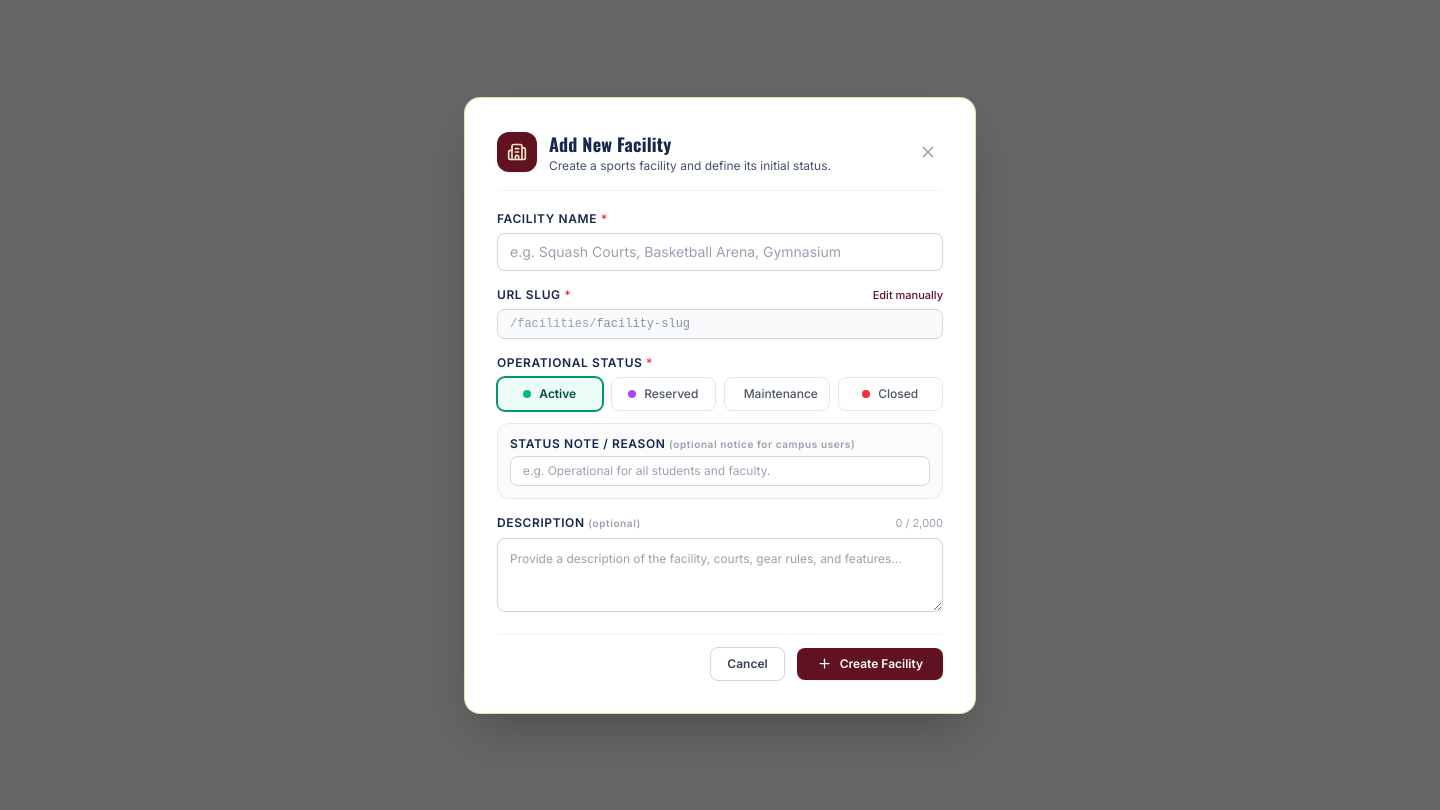
Test: CreateFacilityModal Component › displays conflict error banner when slug already exists
The image size is (1440, 810).
Type "Gymnasium" into the field with test id "create-facility-name-input" at (720, 252), box [497,232,943,270]
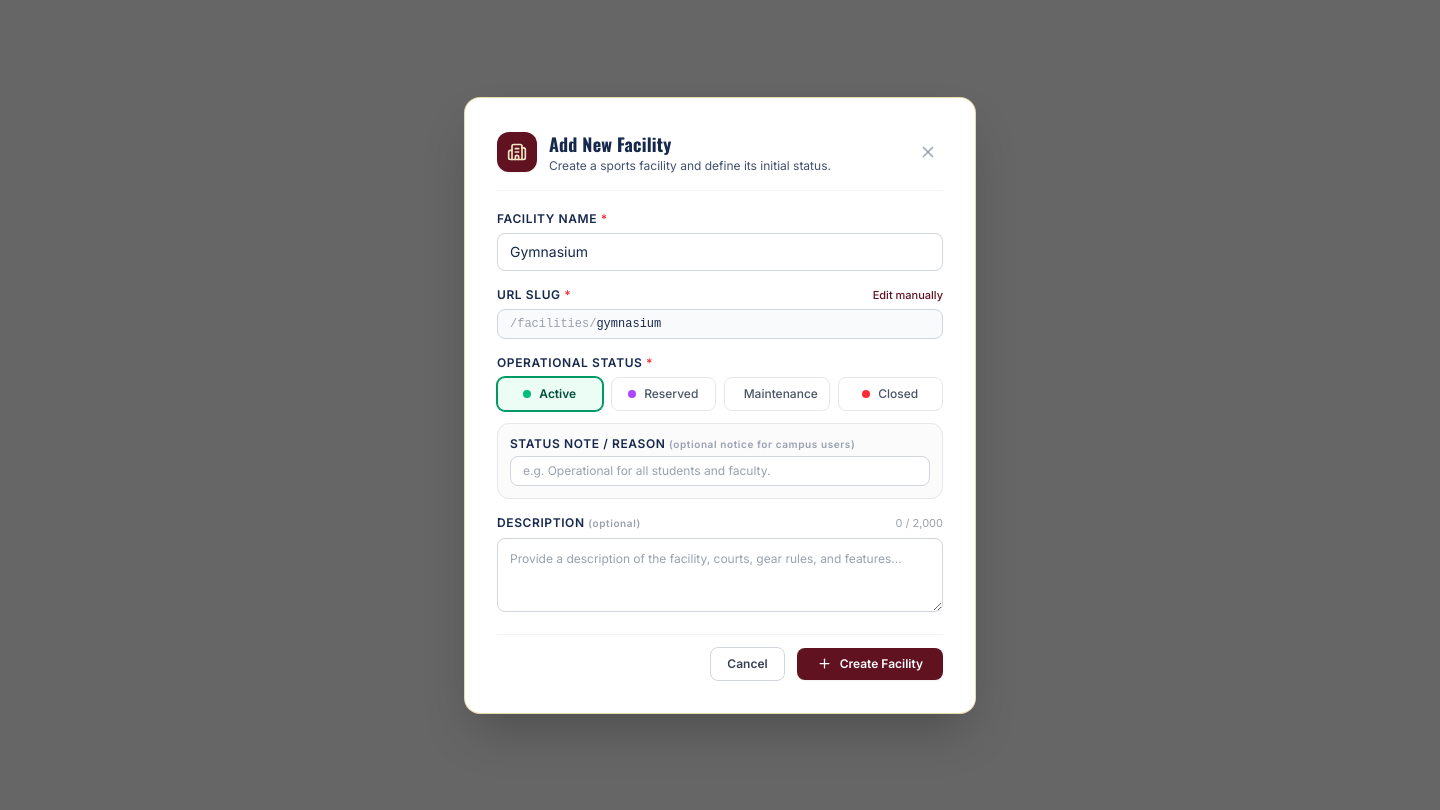
Click the button with test id "create-facility-submit-btn" at (870, 664), box [797,648,943,680]
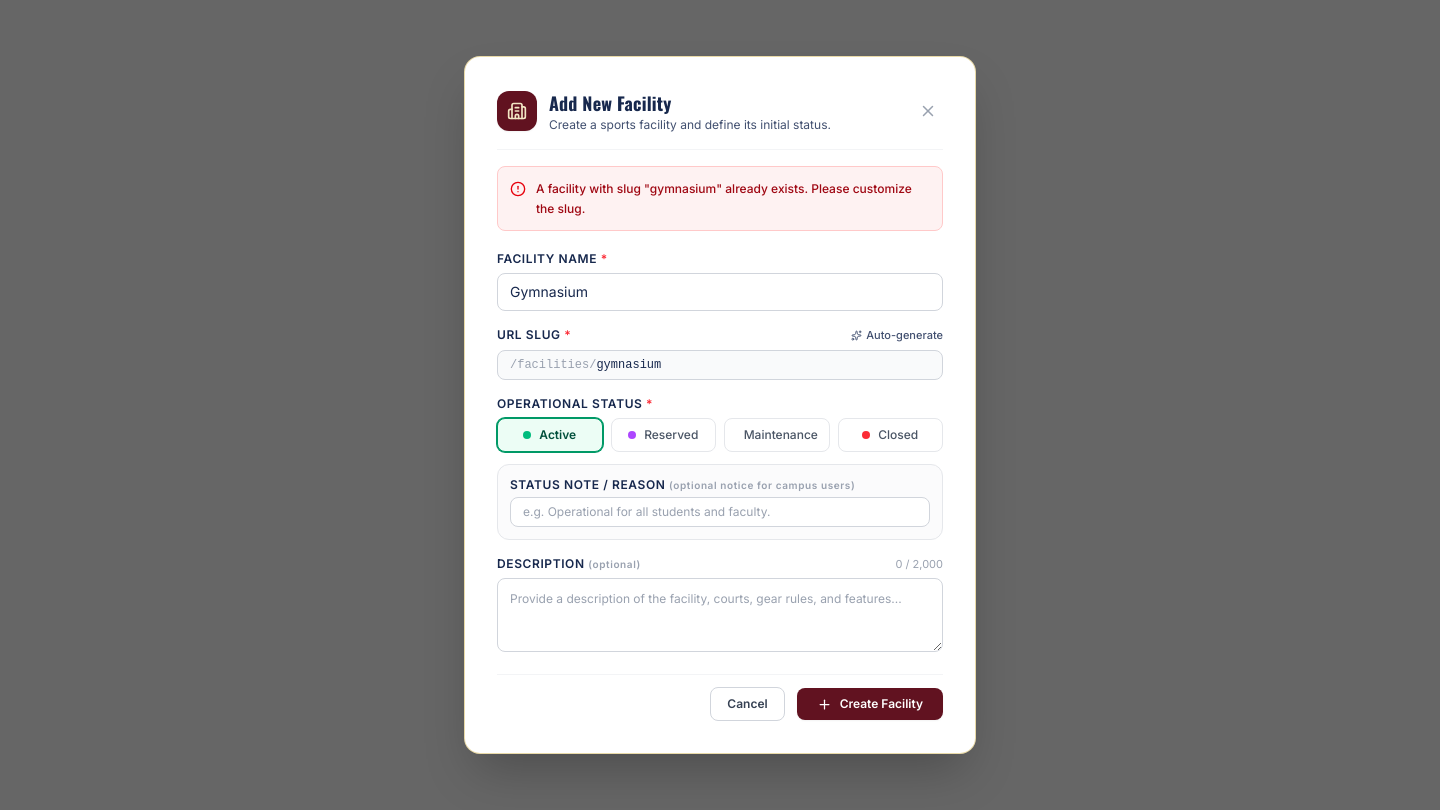
Expected: the element with test id "create-facility-error" shows "A facility with slug \"gymnasium\" already exists", [536,181,912,216]
